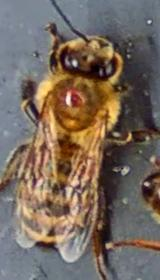varroa_mite: (58, 74, 88, 121)
